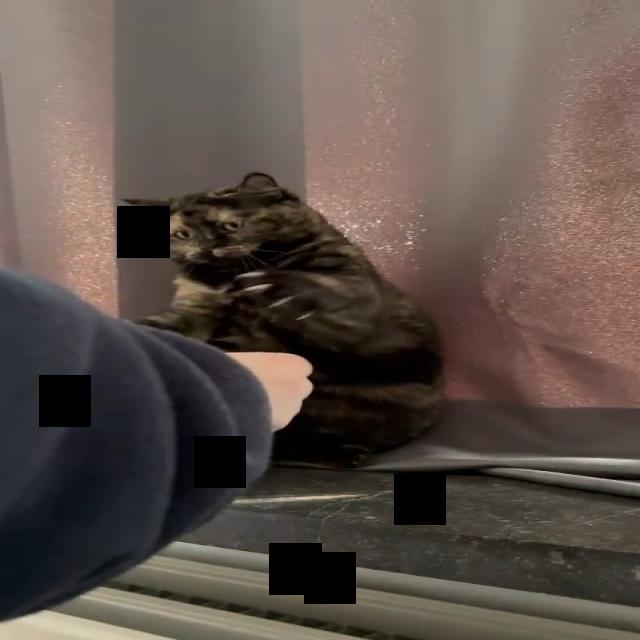authorized: (120, 170, 447, 470)
